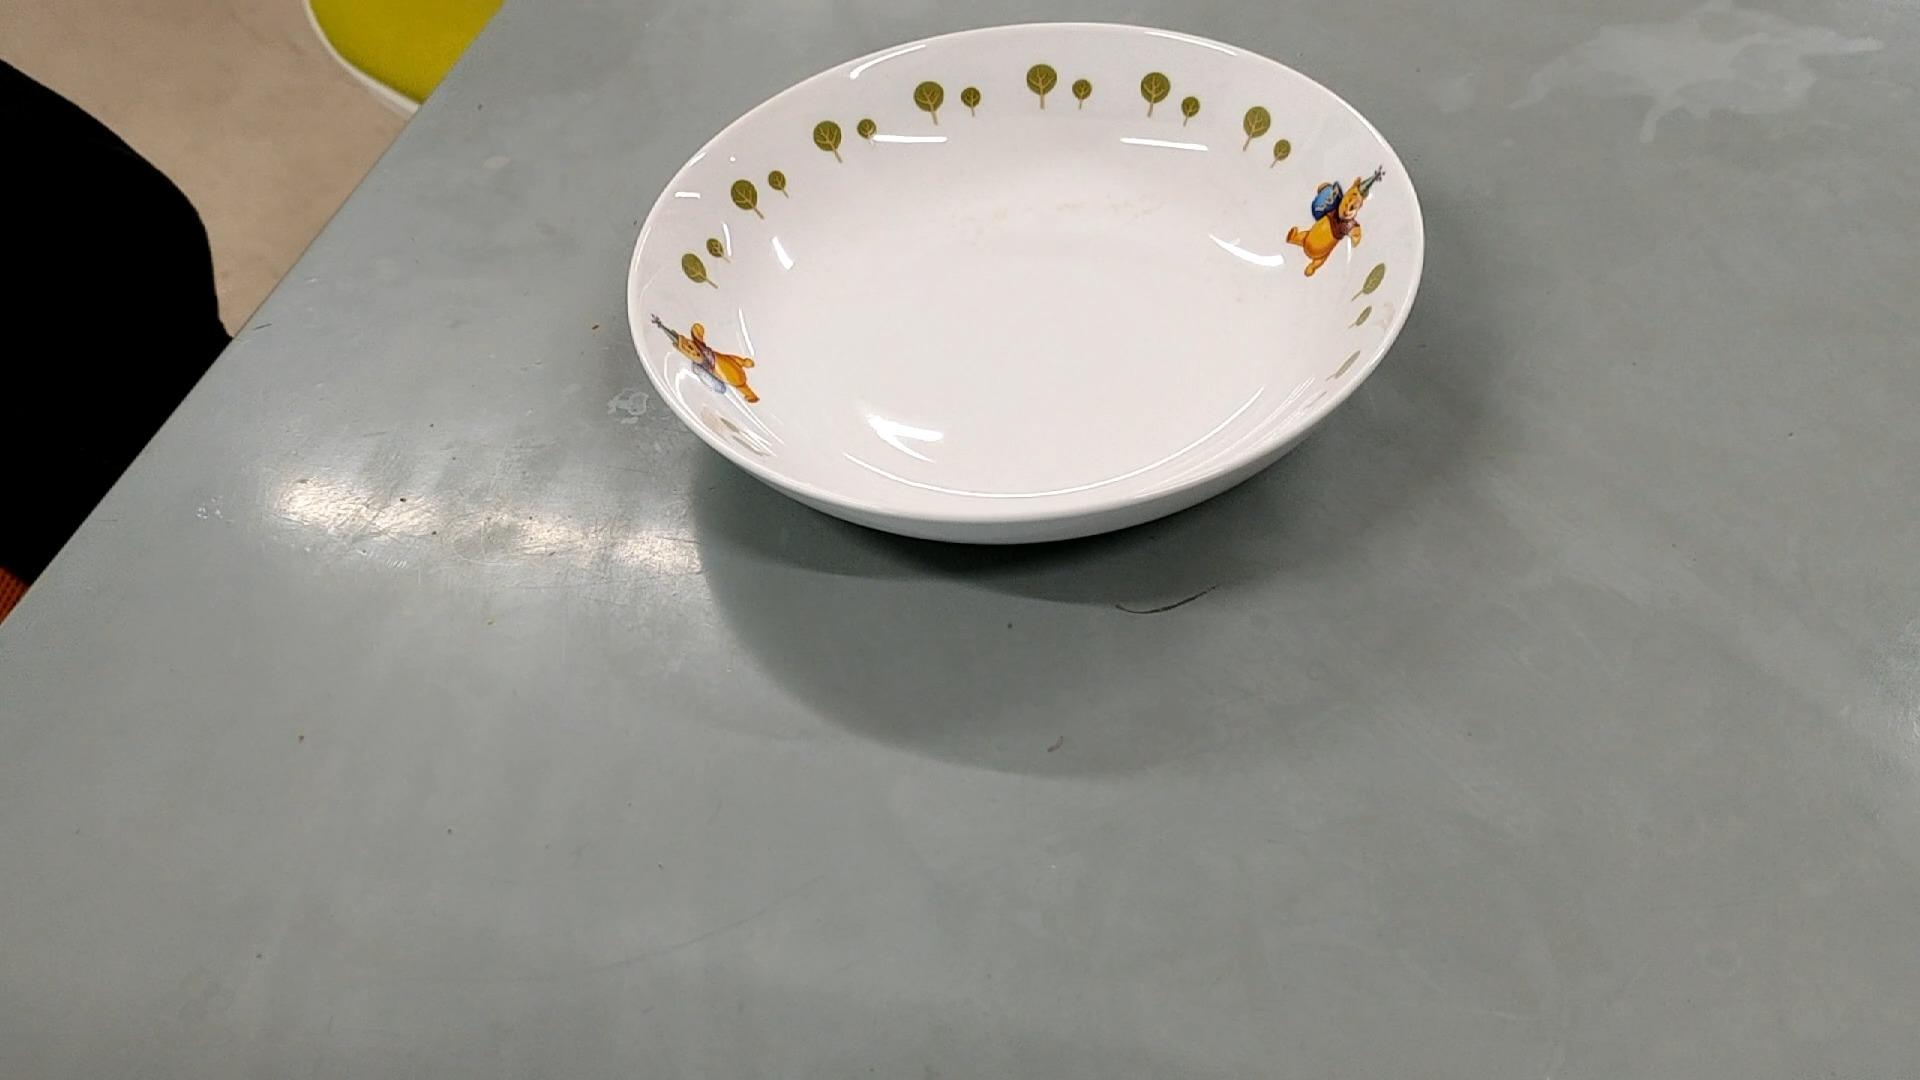plate: (625, 22, 1419, 551)
